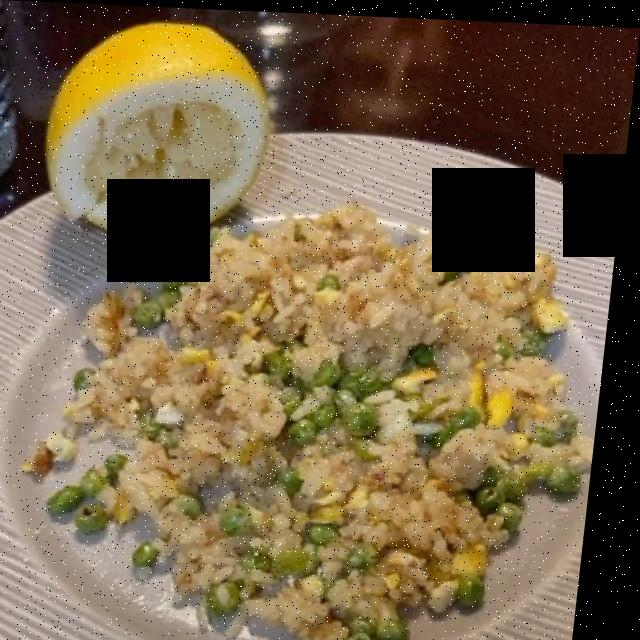cantonese-fried-rice: (43, 230, 584, 639)
lemon: (66, 21, 270, 239)
